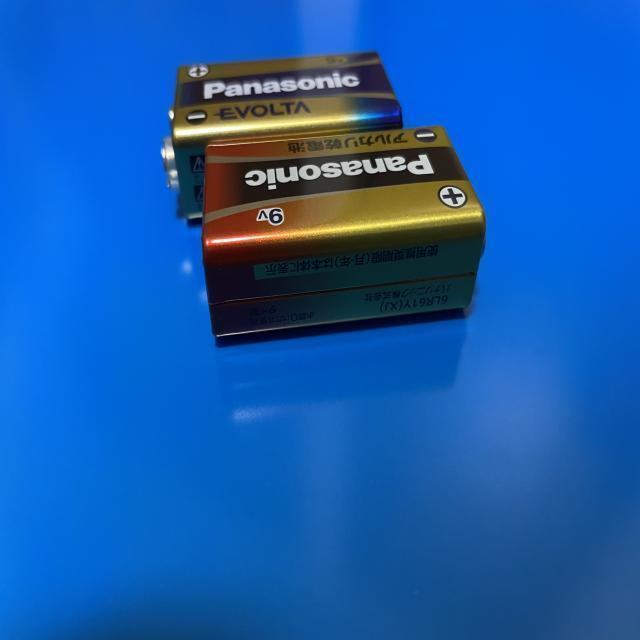9V: (201, 124, 488, 342), (162, 47, 405, 221)
